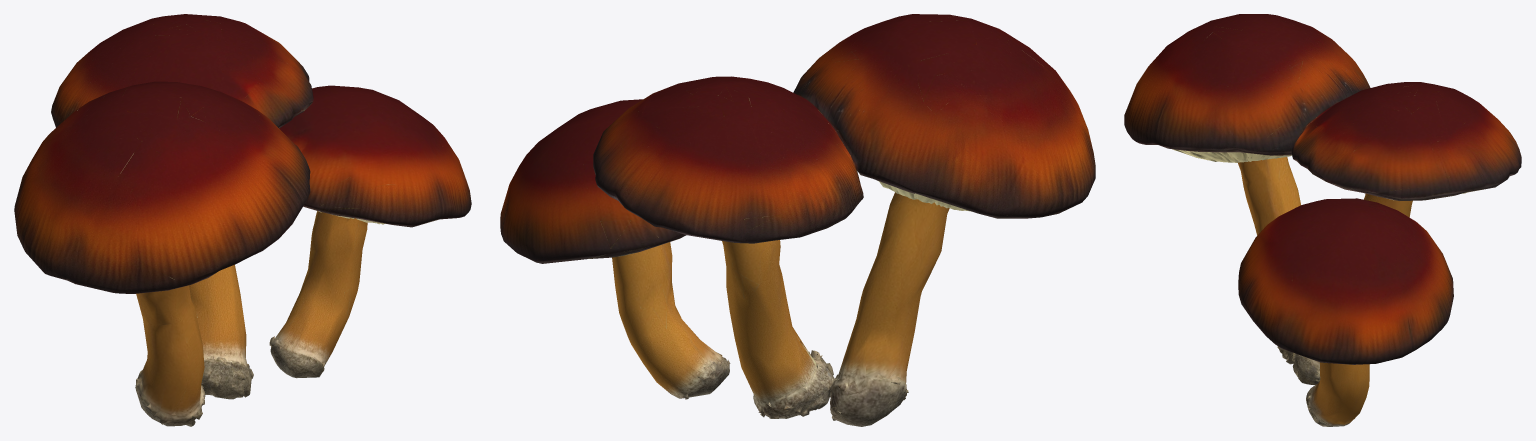
The model's file is mushroom_maronenroehrling.glb.
The picture shows the model from 3 angles, left to right: view 1: azimuth 30°, elevation 25°; view 2: azimuth 150°, elevation 25°; view 3: azimuth 270°, elevation 25°; orthographic projection. The views are drawn at different scales.
Parts seen in each view (by area): view 1: mushroom_maronenroehrling_0; view 2: mushroom_maronenroehrling_0; view 3: mushroom_maronenroehrling_0.
Part boxes in pixels (x1=…): mushroom_maronenroehrling_0: x1=14, y1=14, x2=471, y2=426; mushroom_maronenroehrling_0: x1=500, y1=14, x2=1095, y2=426; mushroom_maronenroehrling_0: x1=1124, y1=14, x2=1521, y2=426.
Bounding box in the file's own units: 0.555 × 0.4 × 0.4514.
Materials: 1 (1 with a texture image).
